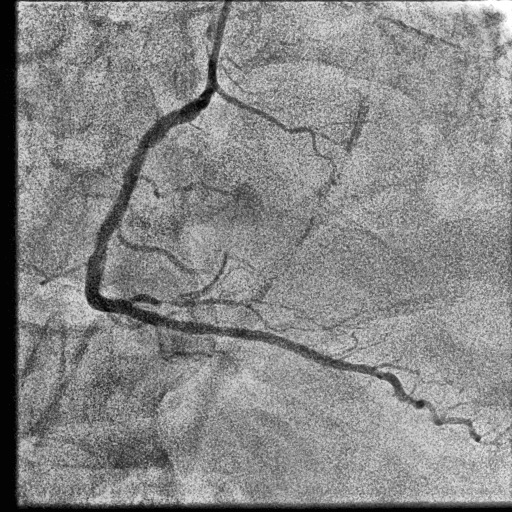pborca: (132, 294, 236, 306)
pda: (130, 305, 483, 442)
rca: (85, 92, 211, 315)
